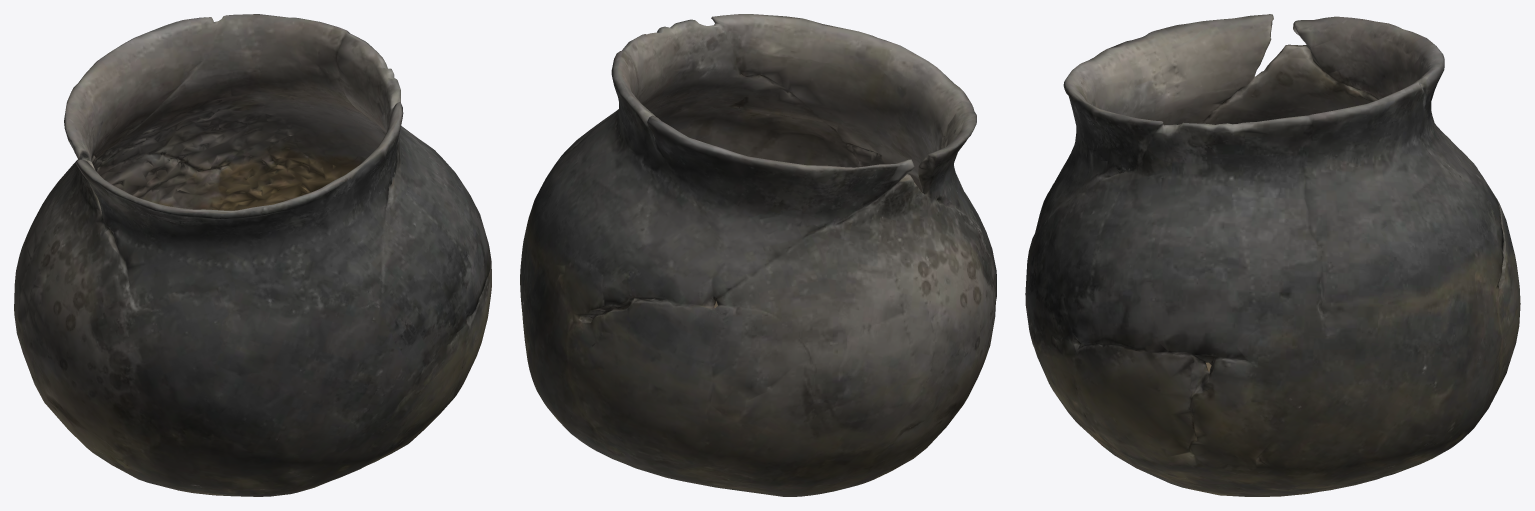
File: si-colonoware-pot.glb
3 views of the same model, side by side, from view 1: azimuth 30°, elevation 25°; view 2: azimuth 150°, elevation 25°; view 3: azimuth 270°, elevation 25° (orthographic). The views are drawn at different scales.
Parts seen in each view (by area): view 1: orient_fix; view 2: orient_fix; view 3: orient_fix.
Boxes of the visible parts, x1,y1,x2,y2 form: orient_fix: [14, 14, 491, 496]; orient_fix: [520, 14, 996, 496]; orient_fix: [1025, 14, 1520, 496].
Size of the model in its own units: 0.2621 by 0.2399 by 0.2597.
Materials: 1 (1 with a texture image).
